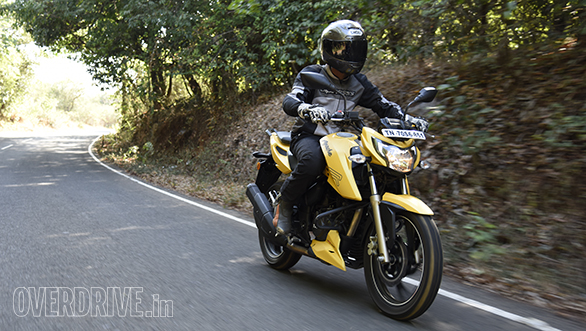helmet: (320, 19, 367, 81)
